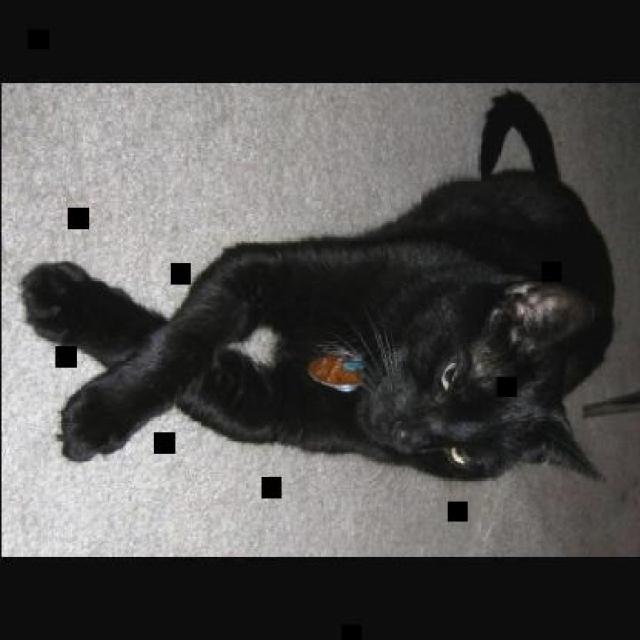unauthorized: (18, 88, 616, 482)
